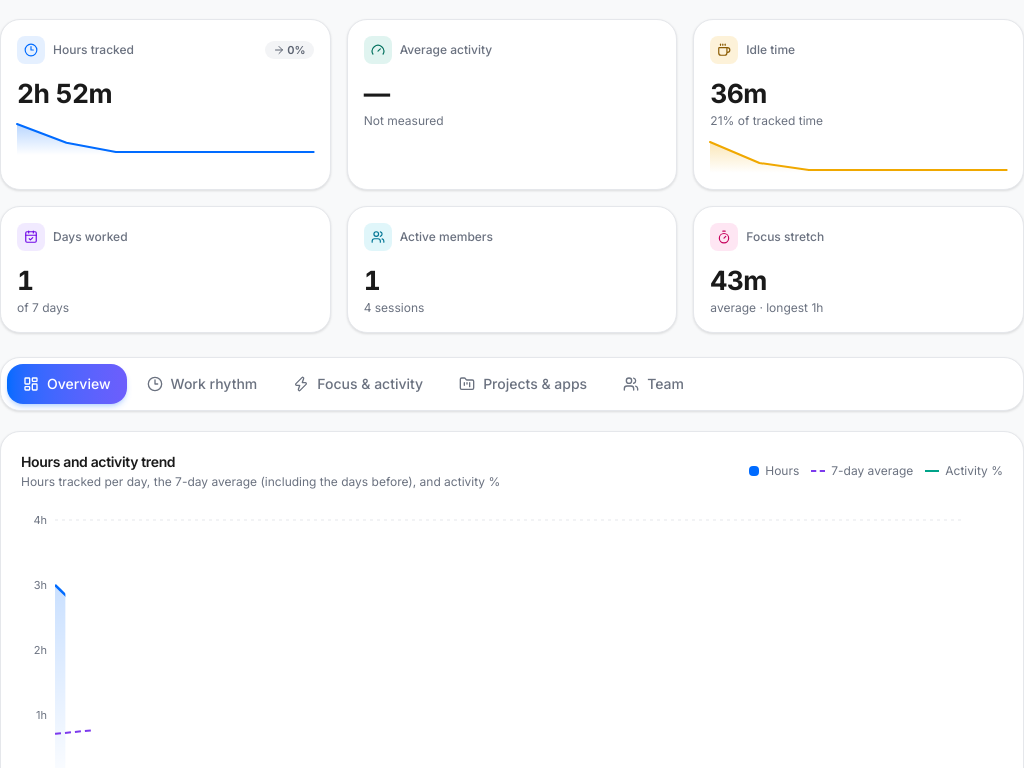
Test: Work Analytics (live) › reads activity that wasn't measured as a dash, and leaves it out of the charts
The image size is (1024, 768).
(page scrolled)
Check: the tab "Overview" is shown, box [7,364,126,404]
Check: the text "Not measured" is shown, box [364,113,444,128]
Click the tab "Focus & activity".
click(358, 384)  # box [277,364,439,404]
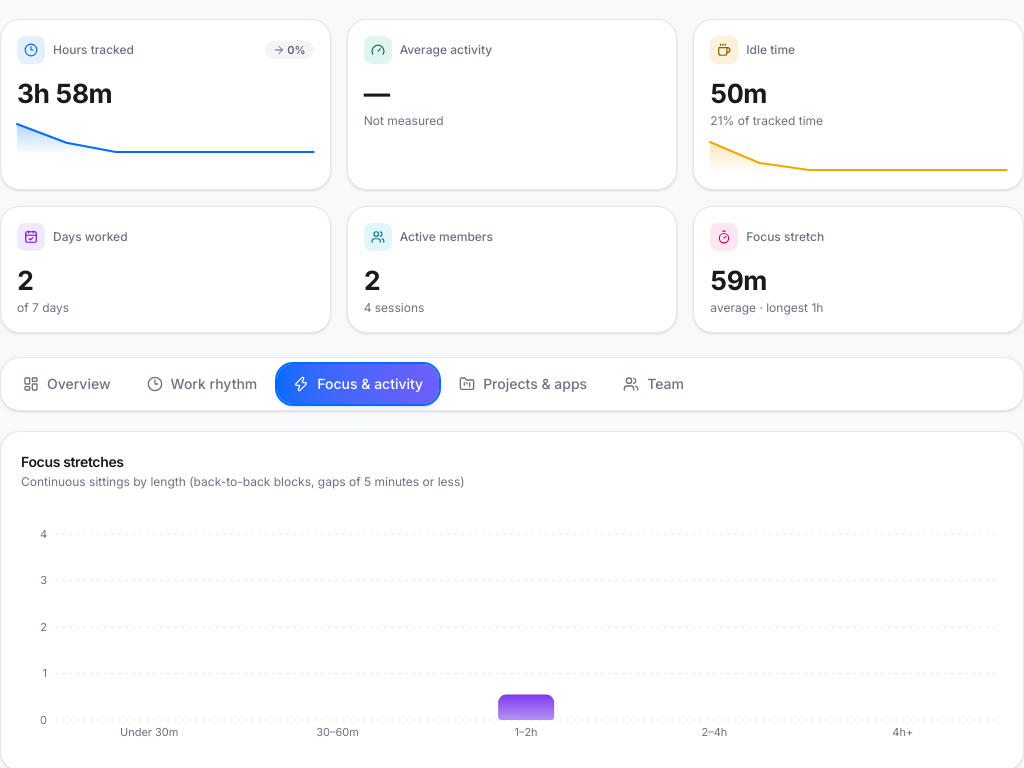
Click the tab "Team".
click(654, 384)  # box [607,364,700,404]
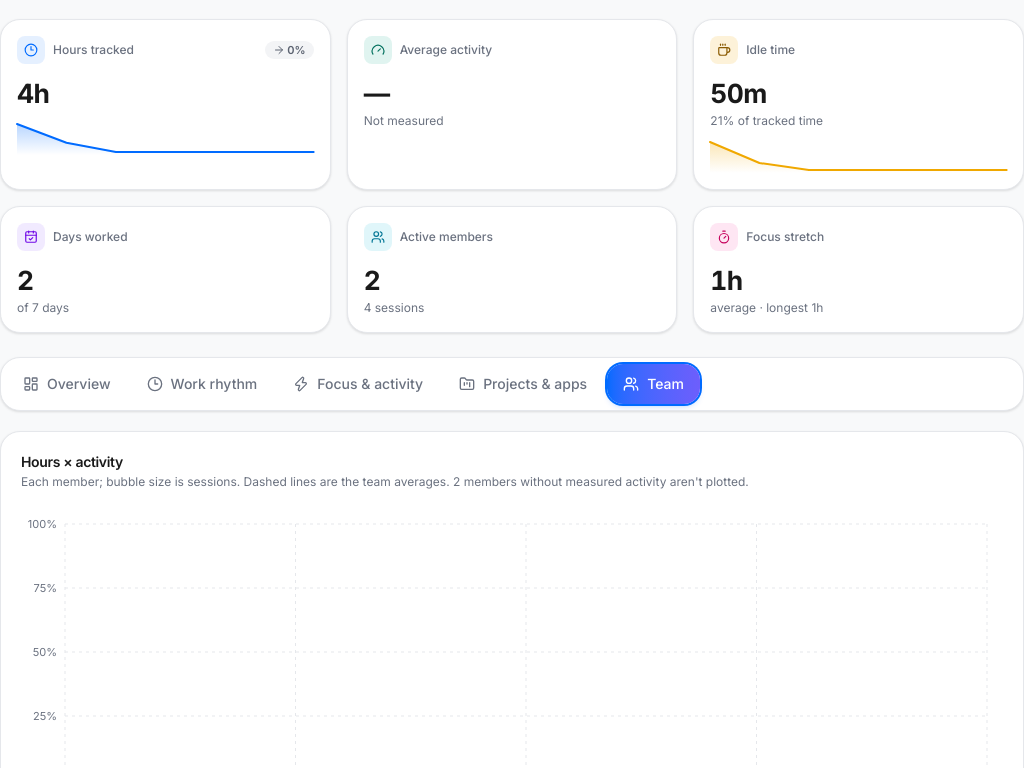
Check: the text "2 members without measured activity aren't plotted" is shown, box [21,474,749,489]
